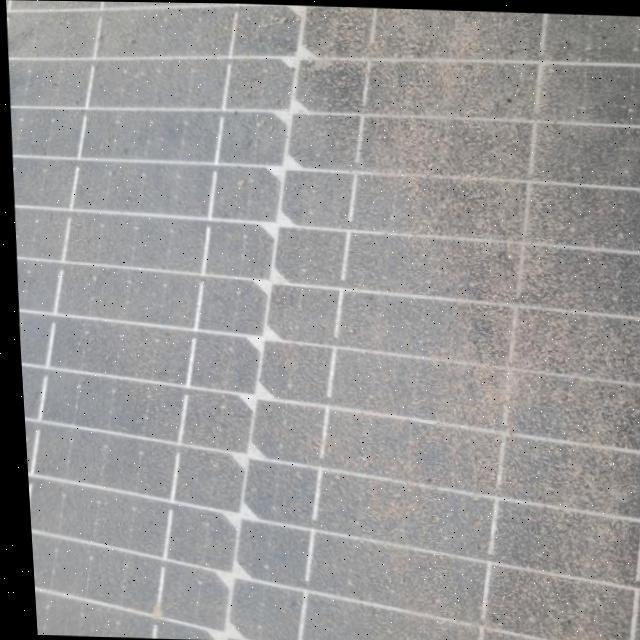Anomaly Solar Panel: (6, 0, 640, 640)
Surface Contaminant: (6, 0, 640, 640)
